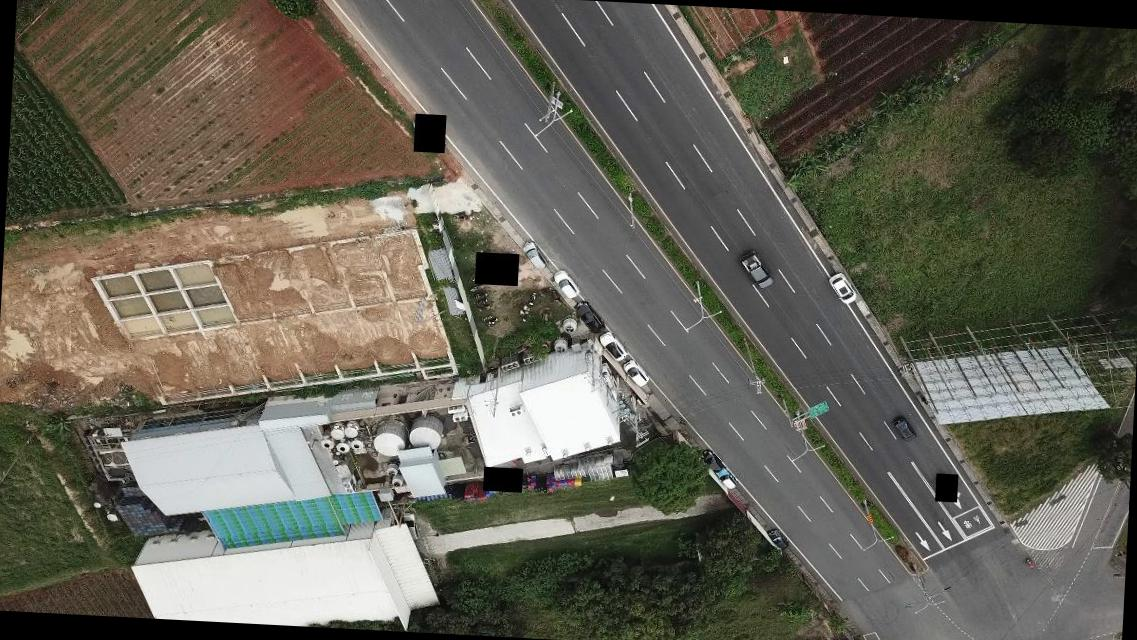vehicle: (737, 248, 773, 290), (573, 300, 607, 337), (597, 330, 630, 364), (826, 272, 858, 306), (620, 358, 652, 389), (551, 270, 582, 302), (520, 240, 552, 270), (889, 415, 917, 443), (399, 509, 421, 542), (699, 447, 724, 475), (714, 467, 738, 490)
